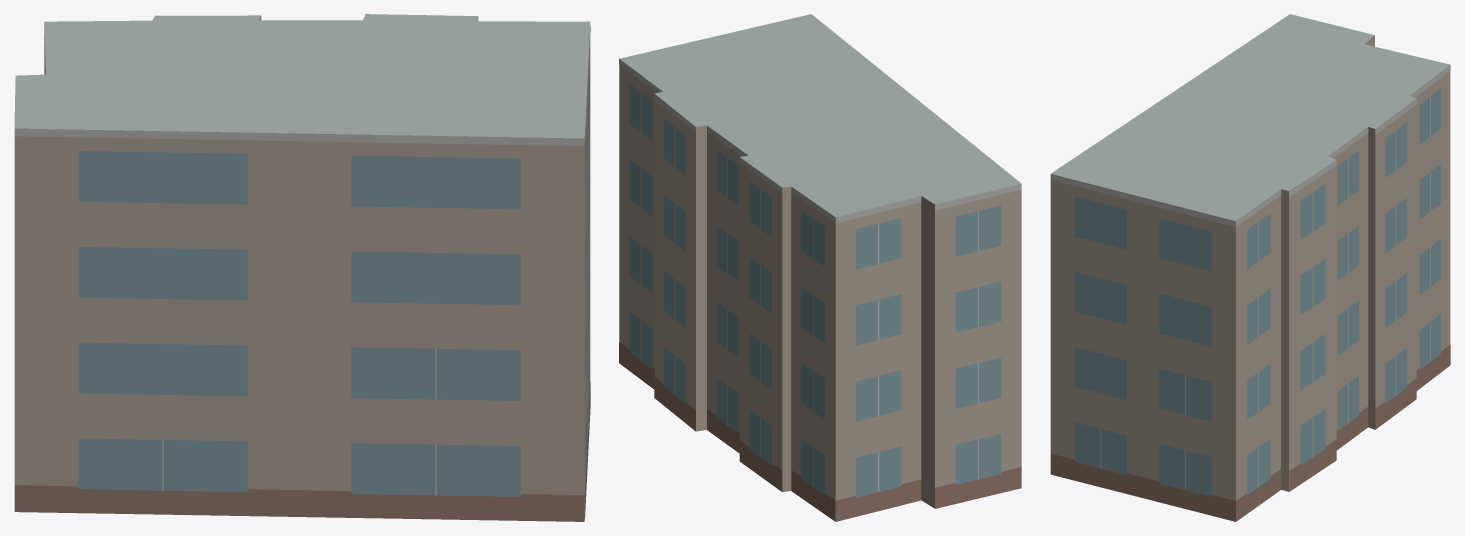
Rendered from survey-upis-32774438.glb.
3 views of the same model, side by side, from view 1: azimuth 30°, elevation 25°; view 2: azimuth 150°, elevation 25°; view 3: azimuth 270°, elevation 25° (orthographic). The views are drawn at different scales.
Parts seen in each view (by area): view 1: survey-upis-32774438.tmp; view 2: survey-upis-32774438.tmp; view 3: survey-upis-32774438.tmp.
Part boxes in pixels (x1=…): survey-upis-32774438.tmp: x1=14, y1=14, x2=590, y2=521; survey-upis-32774438.tmp: x1=619, y1=14, x2=1021, y2=521; survey-upis-32774438.tmp: x1=1050, y1=14, x2=1450, y2=521.
Size of the model in its own units: 18.04 by 12.2 by 14.71.
